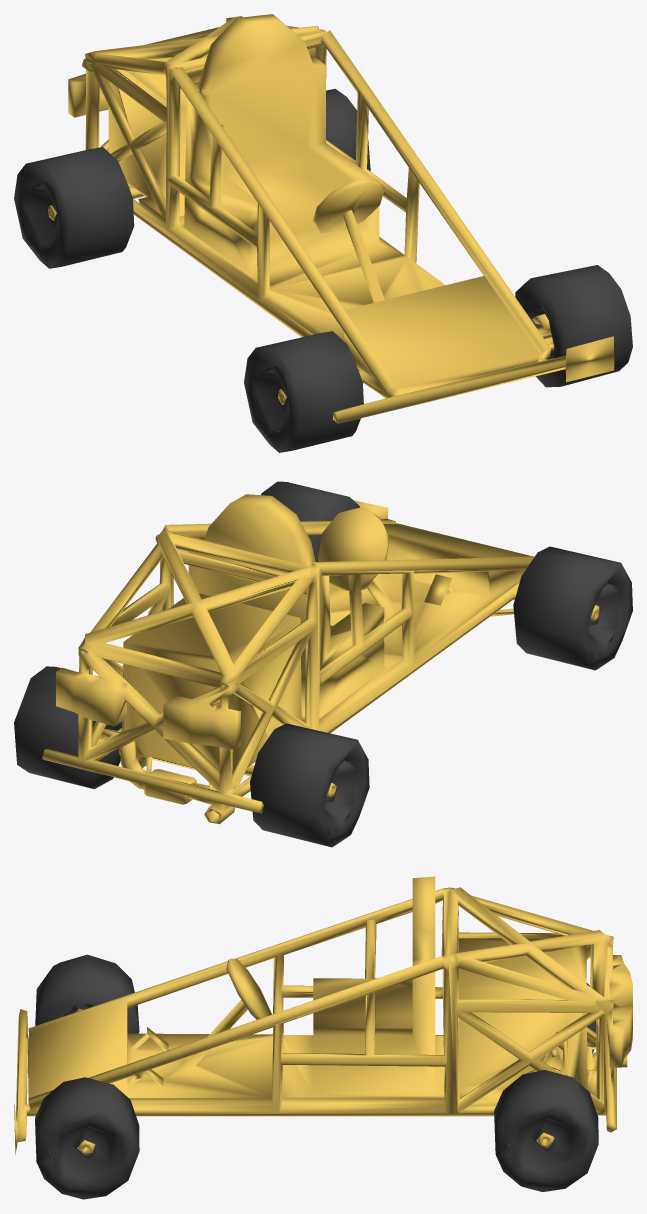
File: car-cage-kart.glb
3 views of the same model, one above another, from view 1: azimuth 30°, elevation 25°; view 2: azimuth 150°, elevation 25°; view 3: azimuth 270°, elevation 25° (orthographic). The views are drawn at different scales.
Visible parts, largest first — view 1: body, wheel.002, wheel.003, wheel.001, wheel; view 2: body, wheel.003, wheel.002, wheel, wheel.001; view 3: body, wheel.001, wheel, wheel.003.
Boxes of the visible parts, x1,y1,x2,y2 form: body: (48, 14, 614, 423); wheel.002: (14, 147, 134, 268); wheel.003: (244, 331, 363, 452); wheel.001: (515, 265, 632, 387); wheel: (326, 88, 370, 171); body: (42, 494, 599, 824); wheel.003: (513, 546, 632, 670); wheel.002: (250, 723, 369, 847); wheel: (14, 666, 122, 789); wheel.001: (261, 481, 359, 561); body: (14, 876, 632, 1154); wheel.001: (35, 1077, 139, 1199); wheel: (494, 1070, 598, 1191); wheel.003: (35, 954, 139, 1033).
Size of the model in its own units: 1.53 by 1.12 by 2.59.
